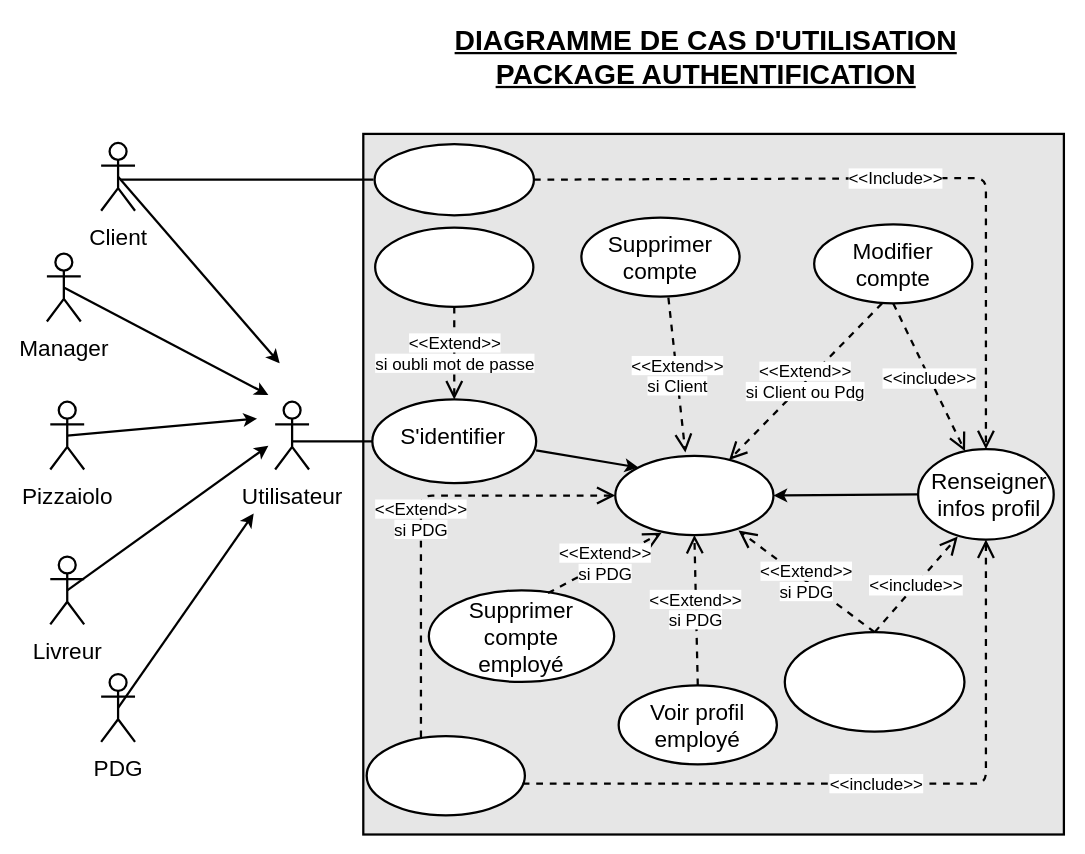
Some shapes in this 1085 by 854 pixel diagram are drawn without their labels. Here are the shapes that lost their labels. From the top down, the box of each, then its label:
(373, 142, 534, 216): Créer compte
(373, 226, 534, 307): Envoyer mail
(614, 454, 774, 536): Profil
(362, 132, 1064, 835): System
(783, 631, 965, 732): Modifier compte employé
(365, 734, 525, 816): Créer compte employé
